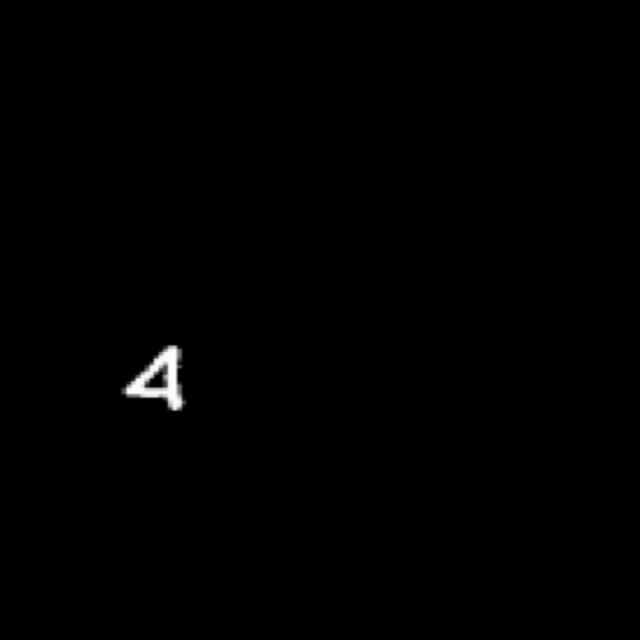four -4-: (99, 326, 211, 422)
